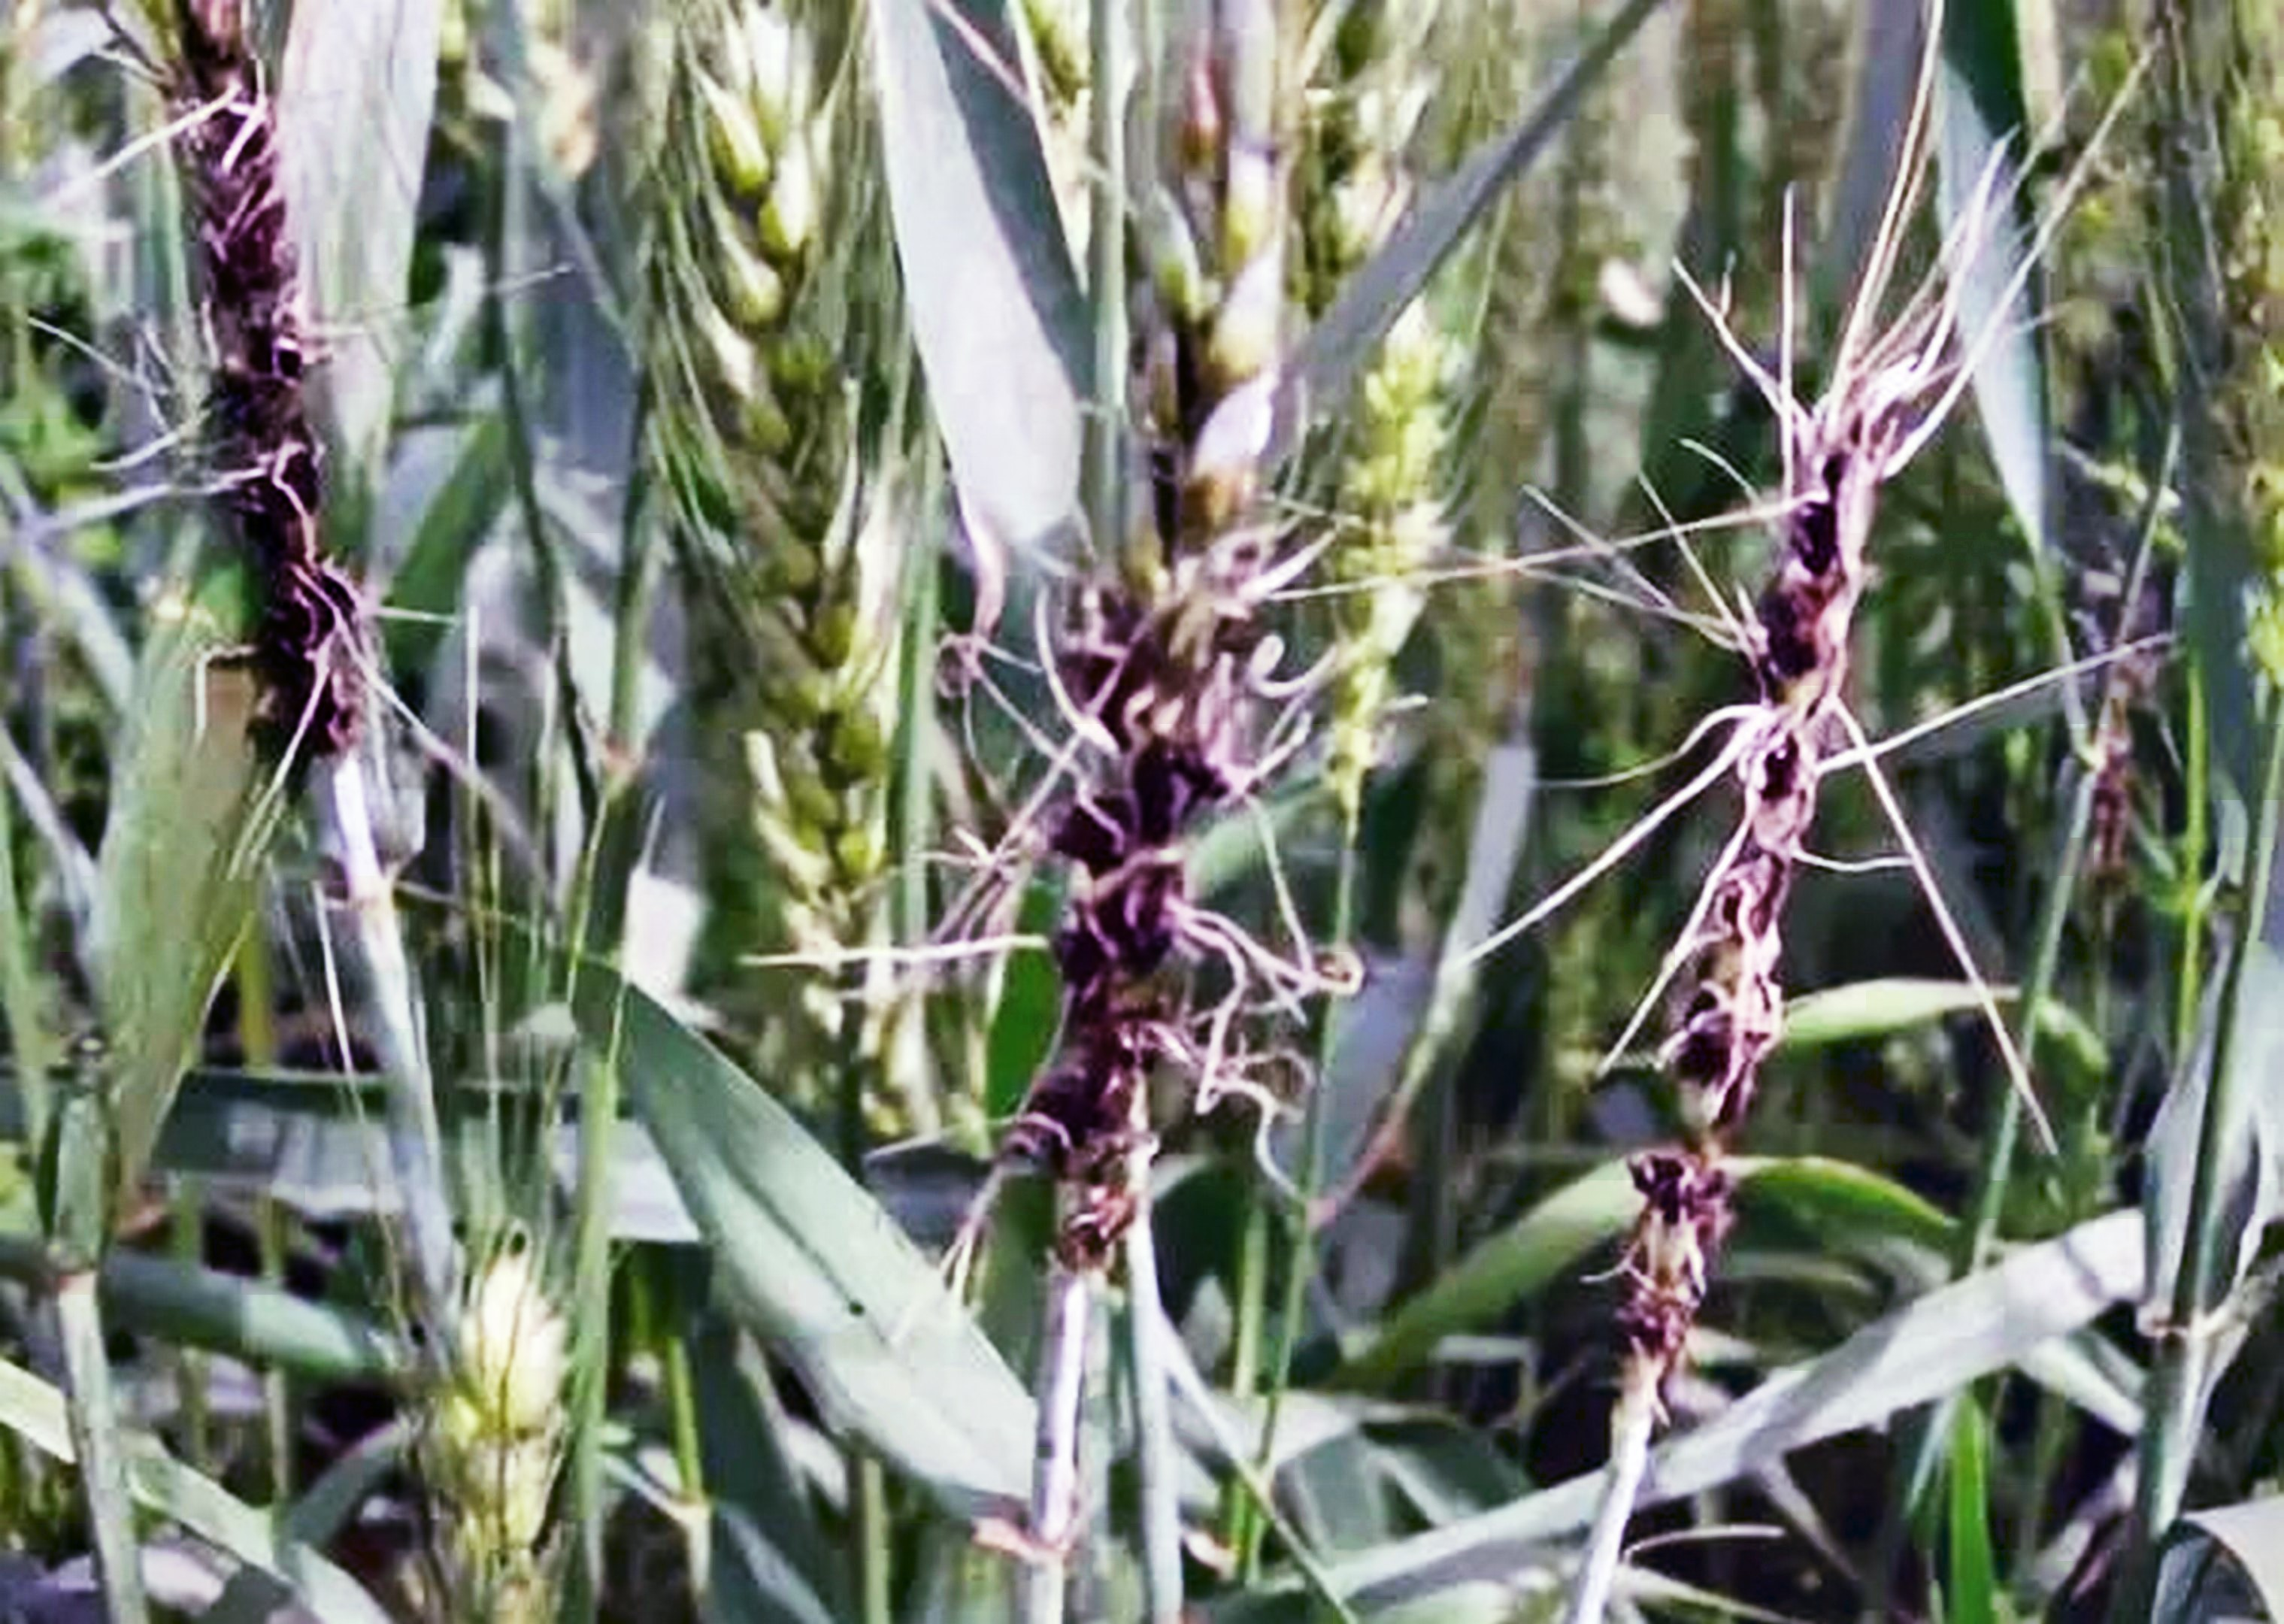Wheat Loose Smut: (1606, 390, 1927, 1322), (1023, 594, 1318, 1265), (146, 63, 408, 735)
